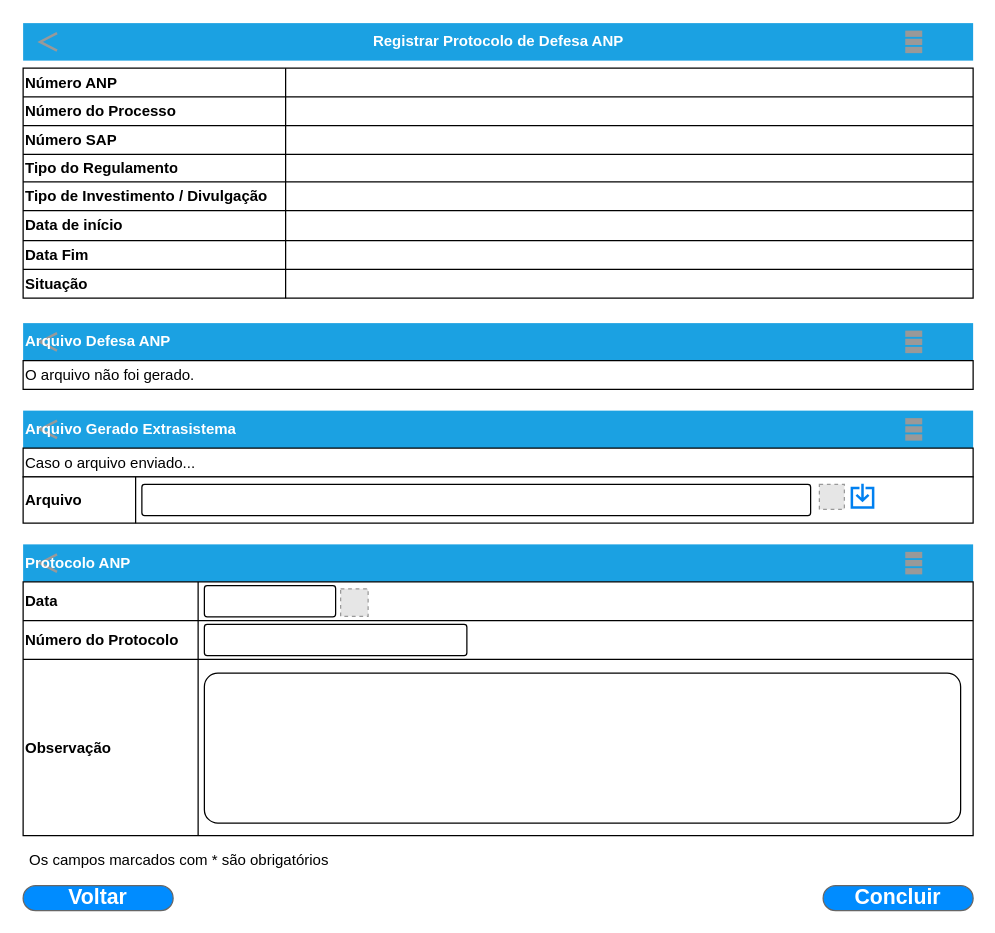
The diagram is 995 pixels wide and 933 high, and some of its shapes have lost their labels. Grey dashed boxes stand in for pictures. The centre of each missing label's shape, as x and y in pixels:
"ARQUIVO.ext" goes at pixel 476 499.
"dd/mm/aaaa" goes at pixel 269 600.
